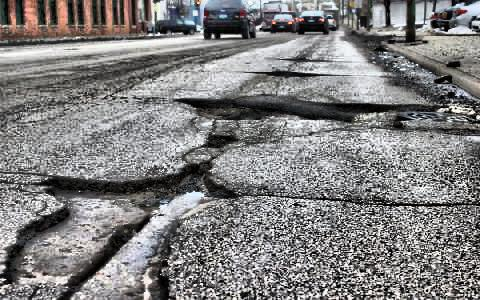pothole: (1, 159, 242, 299), (173, 95, 264, 122), (324, 99, 437, 114), (267, 94, 322, 123), (199, 132, 240, 149), (253, 69, 318, 77)
